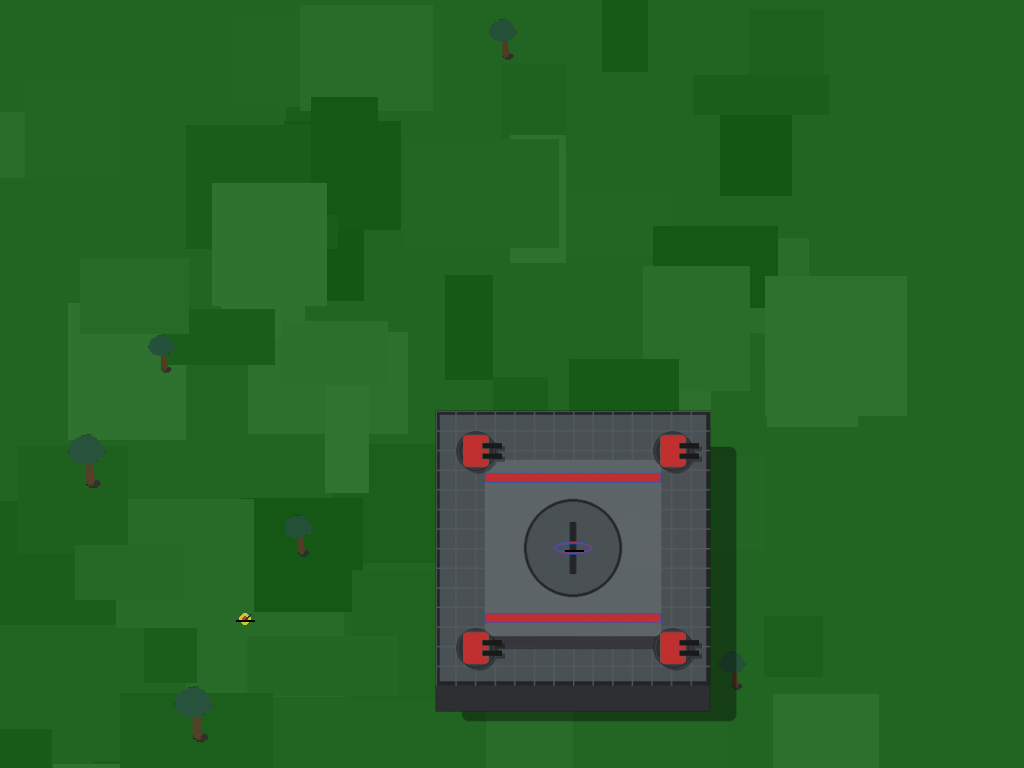Bastion: (411, 386, 737, 712)
CombatEngineer: (231, 605, 258, 632)
